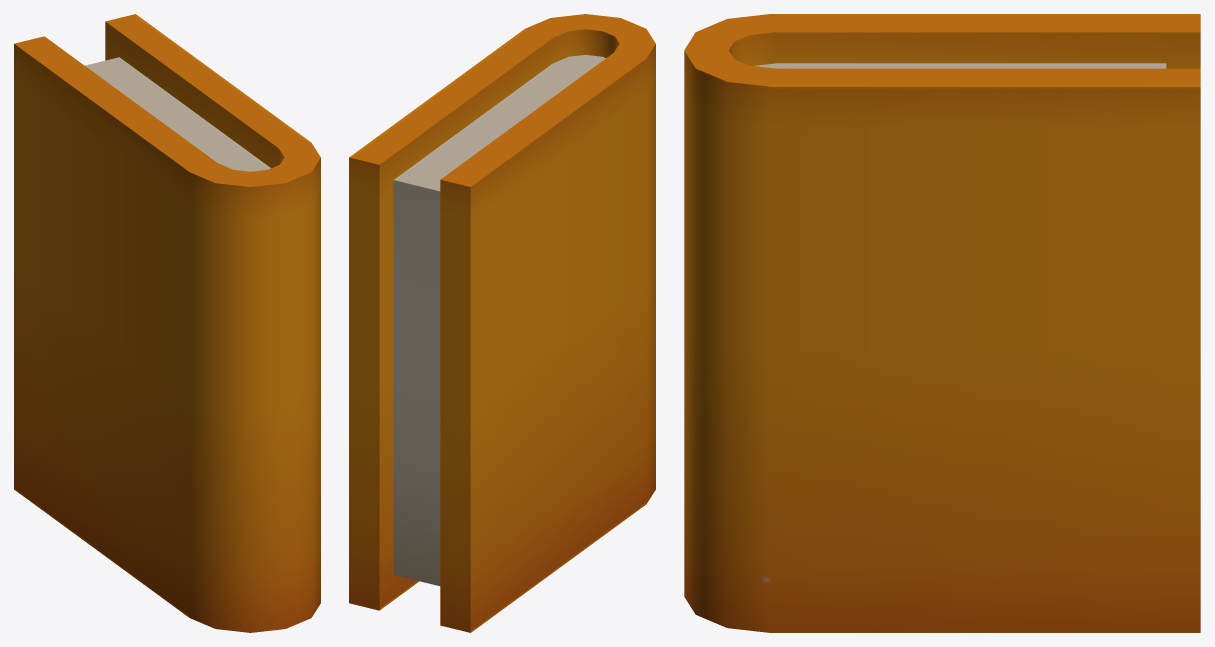
File: BookYellow.fbx
3 renders of one model, left to right at view 1: azimuth 30°, elevation 25°; view 2: azimuth 150°, elevation 25°; view 3: azimuth 270°, elevation 25°, orthographic. The views are drawn at different scales.
Parts seen in each view (by area): view 1: BookYellow; view 2: BookYellow; view 3: BookYellow.
Boxes of the visible parts, x1,y1,x2,y2 form: BookYellow: [14, 14, 320, 632]; BookYellow: [349, 14, 655, 632]; BookYellow: [684, 14, 1200, 632].
Size of the model in its own units: 20 by 70 by 60.
